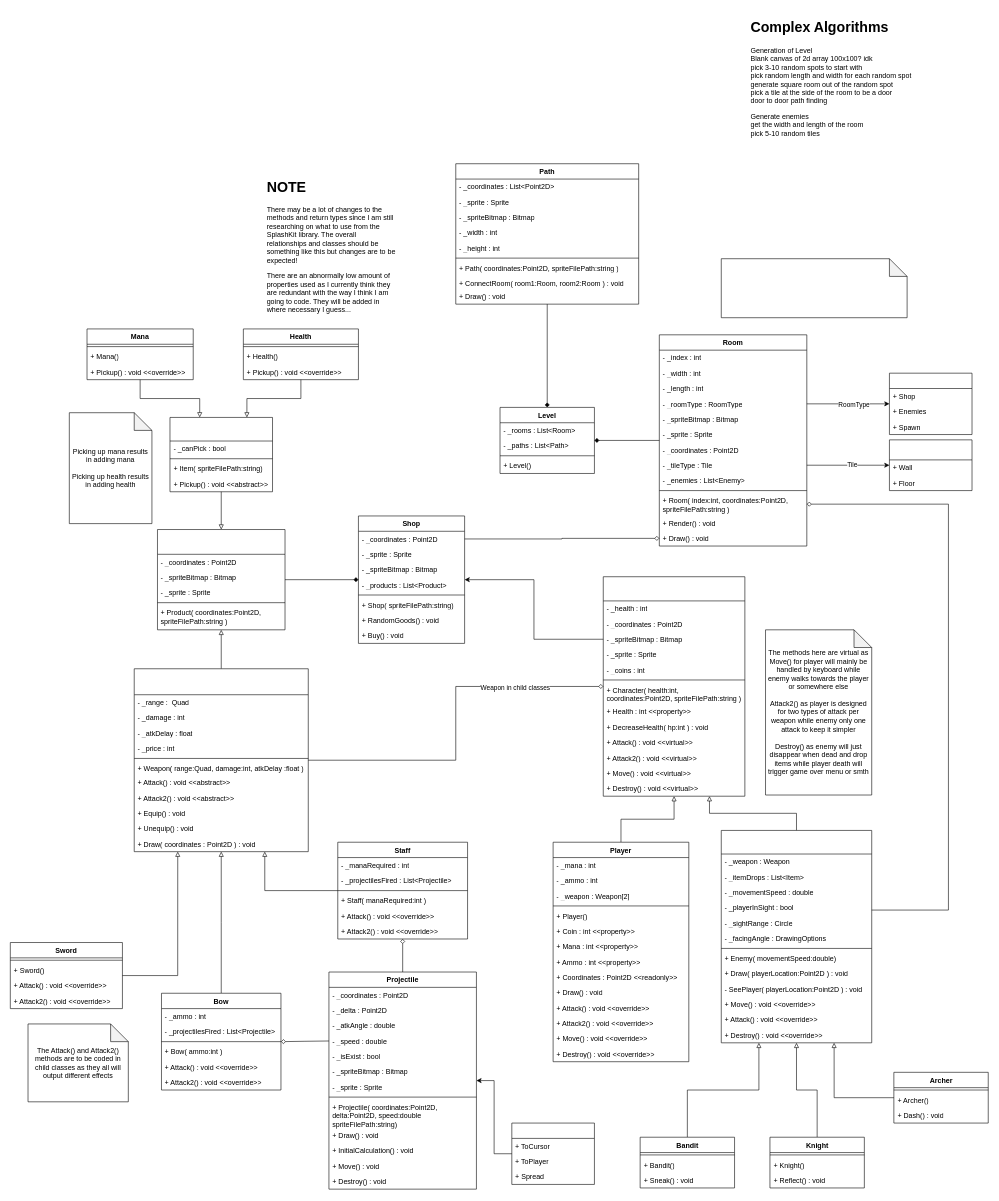
Some shapes in this 999 by 1201 pixel diagram are drawn without their labels. Each missing label, with the box of its shape:
<<abstract>> Character: (603, 576, 745, 796)
<<abstract>> Enemy: (721, 830, 872, 1043)
<<abstract>> Item: (169, 417, 273, 492)
<<abstract>> Product: (157, 529, 285, 630)
<<abstract>> Weapon: (134, 668, 308, 852)
<<enumeration>> ProjectileBehaviour: (511, 1122, 594, 1184)
<<enumeration>> RoomType: (889, 373, 972, 435)
<<enumeration>> Tile: (889, 439, 972, 491)
Change room to inheritance with each room type receiving different lists: (721, 258, 907, 318)
